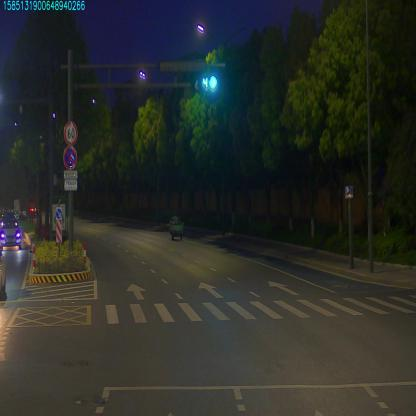traffic-light: (203, 72, 217, 92)
